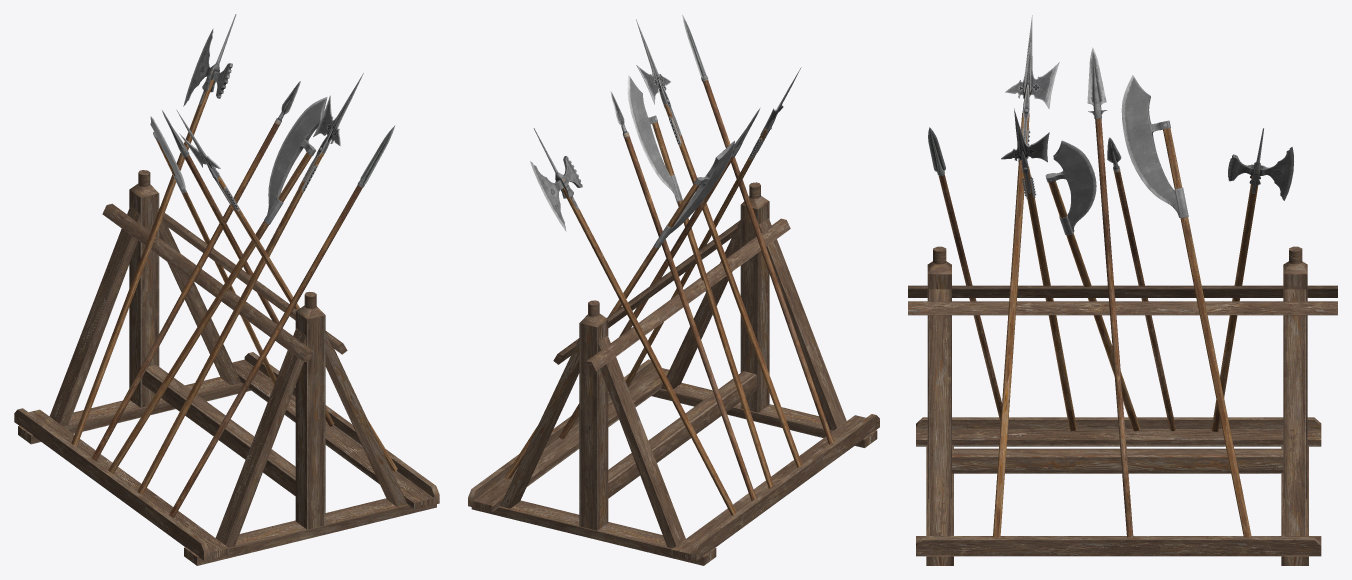
Rendered from Weapon_Pack_02.fbx.
3 views of the same model, side by side, from view 1: azimuth 30°, elevation 25°; view 2: azimuth 150°, elevation 25°; view 3: azimuth 270°, elevation 25° (orthographic). The views are drawn at different scales.
Parts seen in each view (by area): view 1: Weapon_Pack_02_LOD0; view 2: Weapon_Pack_02_LOD0; view 3: Weapon_Pack_02_LOD0.
Part boxes in pixels (x1,y1,x2,y2): Weapon_Pack_02_LOD0: (14,14,439,565); Weapon_Pack_02_LOD0: (468,15,879,565); Weapon_Pack_02_LOD0: (908,15,1337,565).
Size of what is drawn, in the model's own units: 118 by 195 by 172.
